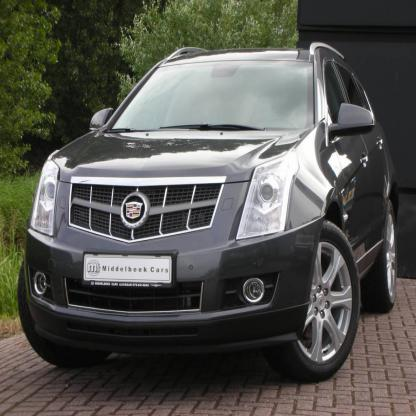Vehicle: (17, 42, 402, 385)
